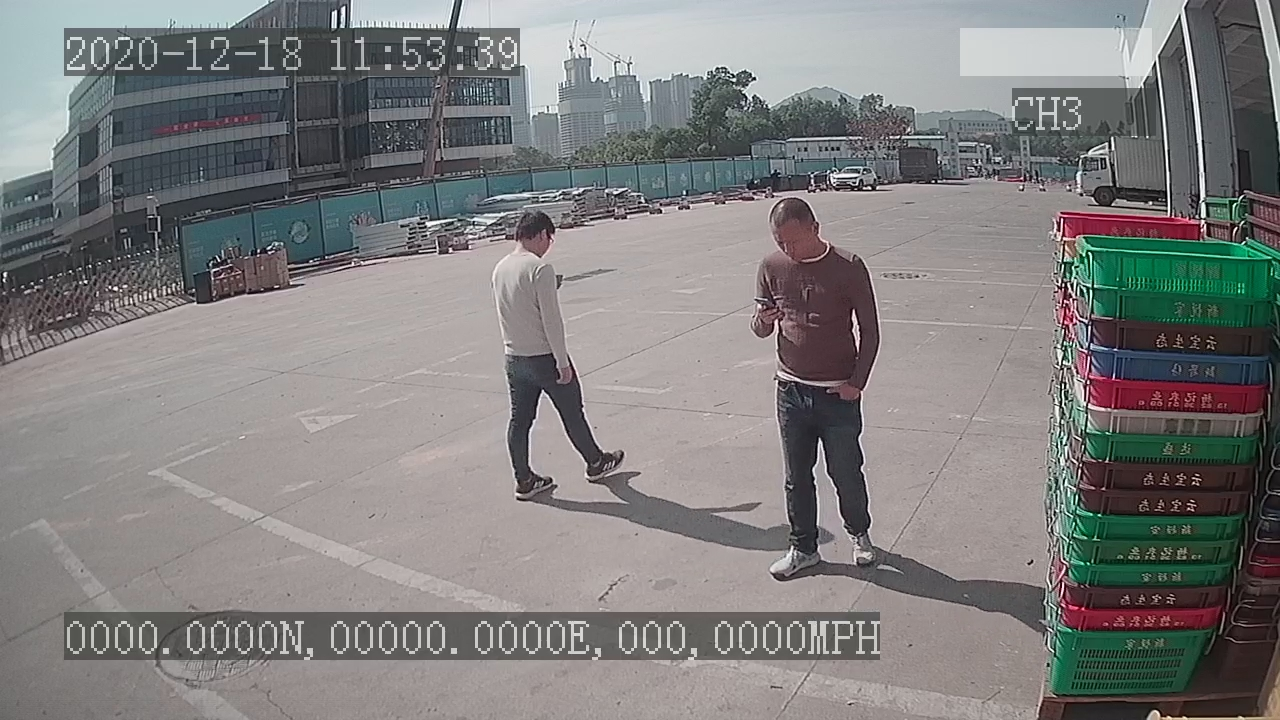person: (740, 190, 884, 588), (470, 199, 631, 510)
